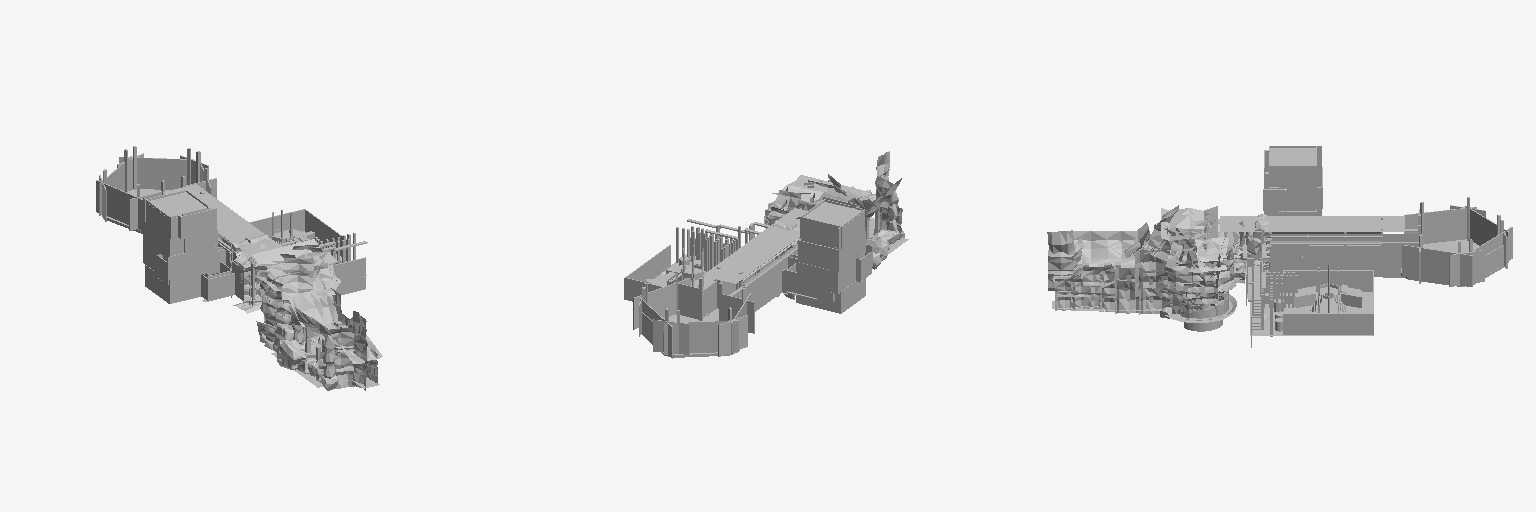
Rendered from templelevel_b.obj.
3 views of the same model, side by side, from view 1: azimuth 30°, elevation 25°; view 2: azimuth 150°, elevation 25°; view 3: azimuth 270°, elevation 25° (orthographic).
Visible parts, largest first — view 1: collapsed_collider; view 2: collapsed_collider; view 3: collapsed_collider, Gardens_floor001_keep_collider, Gengon001_keep_collider.
Boxes of the visible parts, x1,y1,x2,y2 form: collapsed_collider: [96, 146, 382, 390]; collapsed_collider: [624, 151, 904, 358]; collapsed_collider: [1047, 146, 1512, 347]; Gardens_floor001_keep_collider: [1250, 292, 1372, 335]; Gengon001_keep_collider: [1401, 239, 1504, 286].
Bounding box in the file's own units: 73.83 × 47.73 × 154.